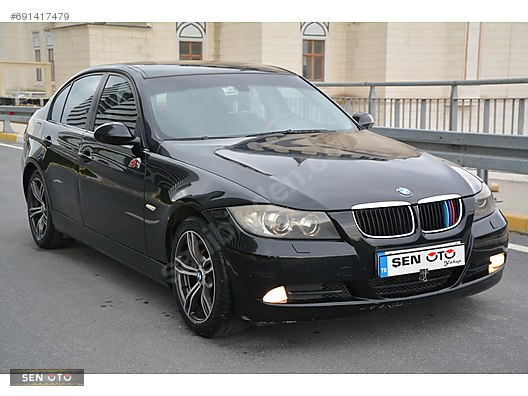bmw: (20, 57, 513, 343)
